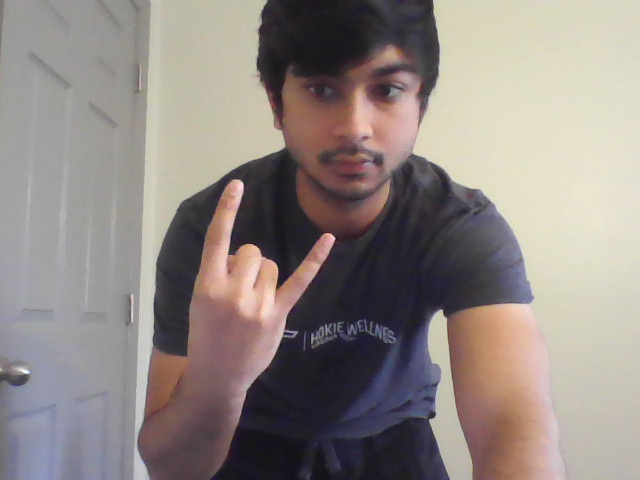help: (186, 175, 340, 390)
